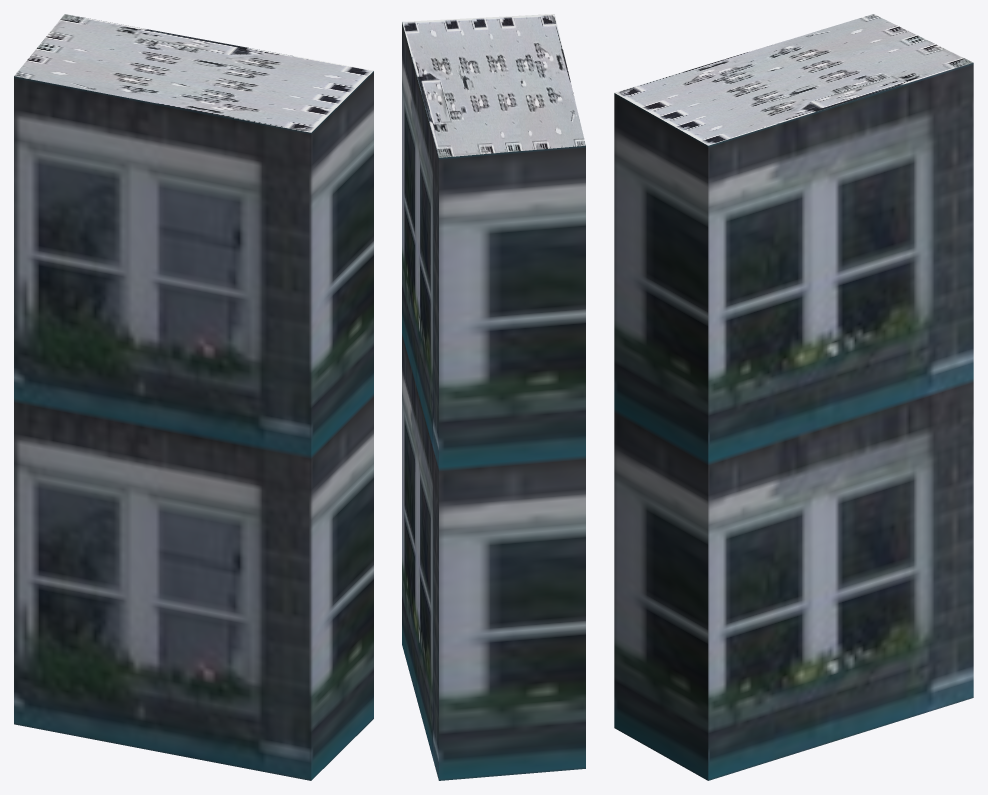
The model's file is ResTex__1478.fbx.
3 views of the same model, side by side, from view 1: azimuth 30°, elevation 25°; view 2: azimuth 150°, elevation 25°; view 3: azimuth 270°, elevation 25° (orthographic). The views are drawn at different scales.
Parts seen in each view (by area): view 1: CityEngineMaterial_11_m, CityEngineMaterial_8_m; view 2: CityEngineMaterial_11_m, CityEngineMaterial_8_m; view 3: CityEngineMaterial_11_m, CityEngineMaterial_8_m.
Part boxes in pixels (left/top/right/bottom): CityEngineMaterial_11_m: left=14, top=71, right=373, bottom=780; CityEngineMaterial_8_m: left=14, top=14, right=373, bottom=132; CityEngineMaterial_11_m: left=402, top=22, right=585, bottom=780; CityEngineMaterial_8_m: left=402, top=14, right=585, bottom=157; CityEngineMaterial_11_m: left=614, top=63, right=973, bottom=780; CityEngineMaterial_8_m: left=614, top=14, right=973, bottom=145.
Size of the model in its own units: 2.67 by 6 by 3.08.
2 materials, 2 textured.
